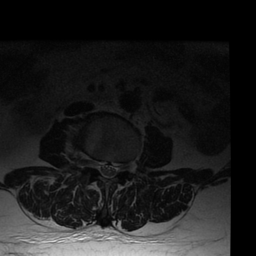CCS_normal: (105, 154, 111, 184)
LFS_normal: (118, 155, 127, 177)
LLS_normal: (111, 158, 118, 181)
RFS_normal: (90, 151, 98, 175)
RLS_normal: (99, 154, 105, 179)
